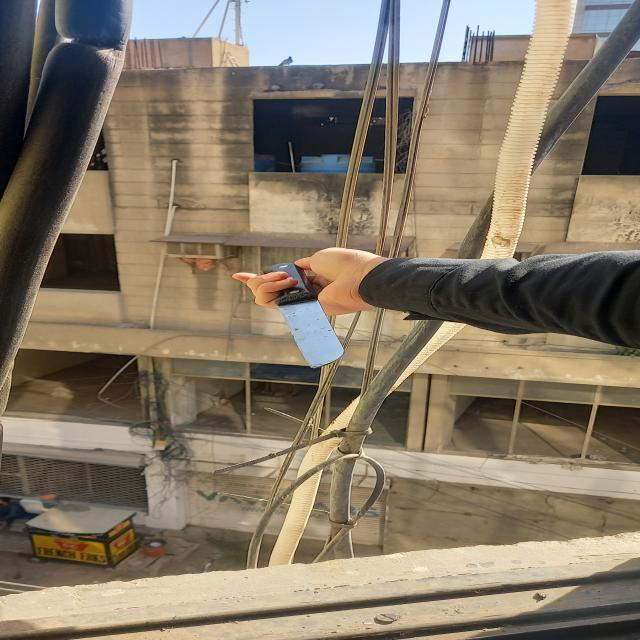Knife: (248, 257, 348, 370)
